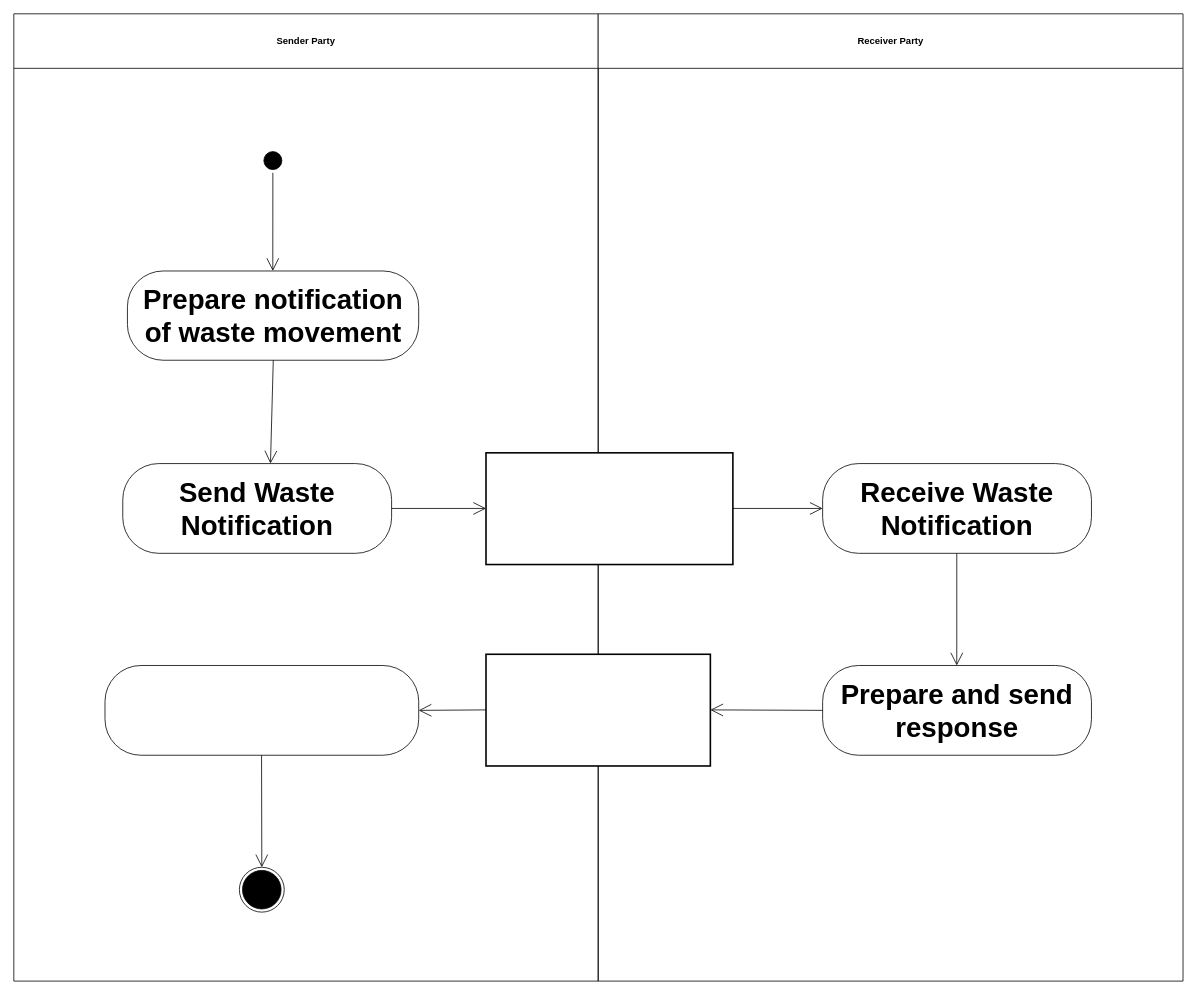
Image size: 1197x995. Some labels were removed from this diagram. Here are the shapes that lost their labels. From the top down, the centre of each, then its label:
At [609,508]: "Waste Notification".
At [261,710]: "Receive Waste Notification Response".
At [598,709]: "Application Response".
